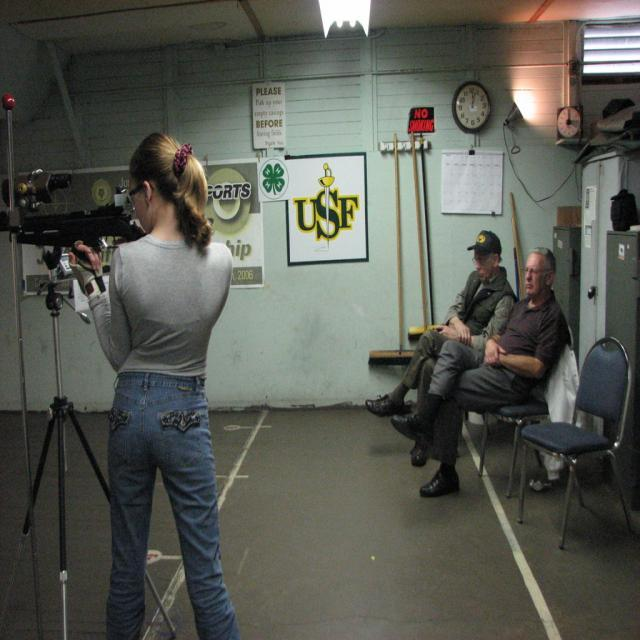weapon: (0, 168, 144, 292)
